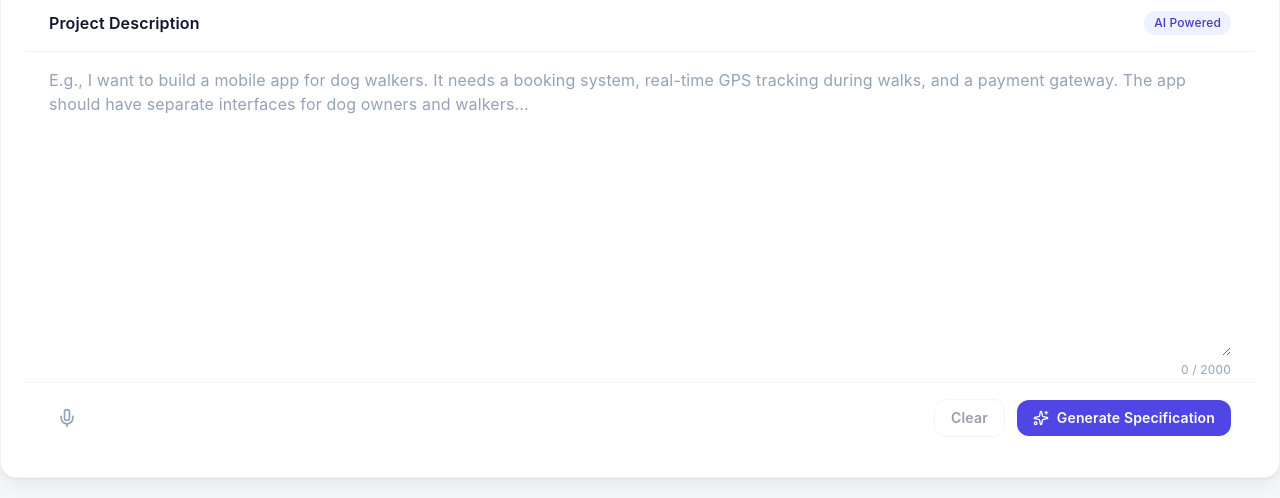
voice input — failure handling › explains a denied microphone permission and returns to idle
The width and height of the screenshot is (1280, 498).
Click the button named "voice input": [67, 418] box [49,400,85,436]
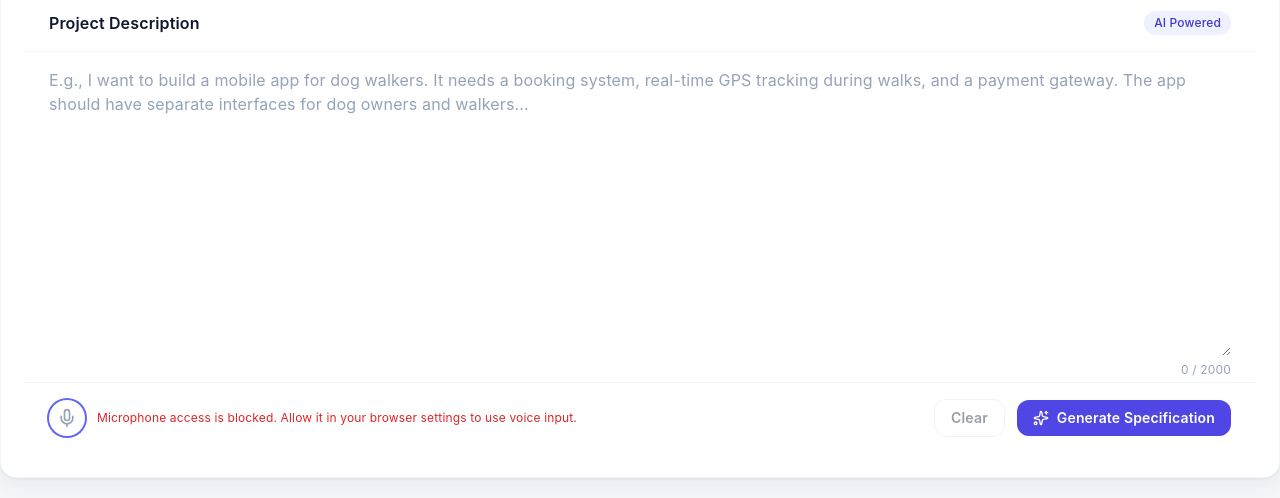
Now the message shows "Microphone access is blocked", box [97,410,577,425]
